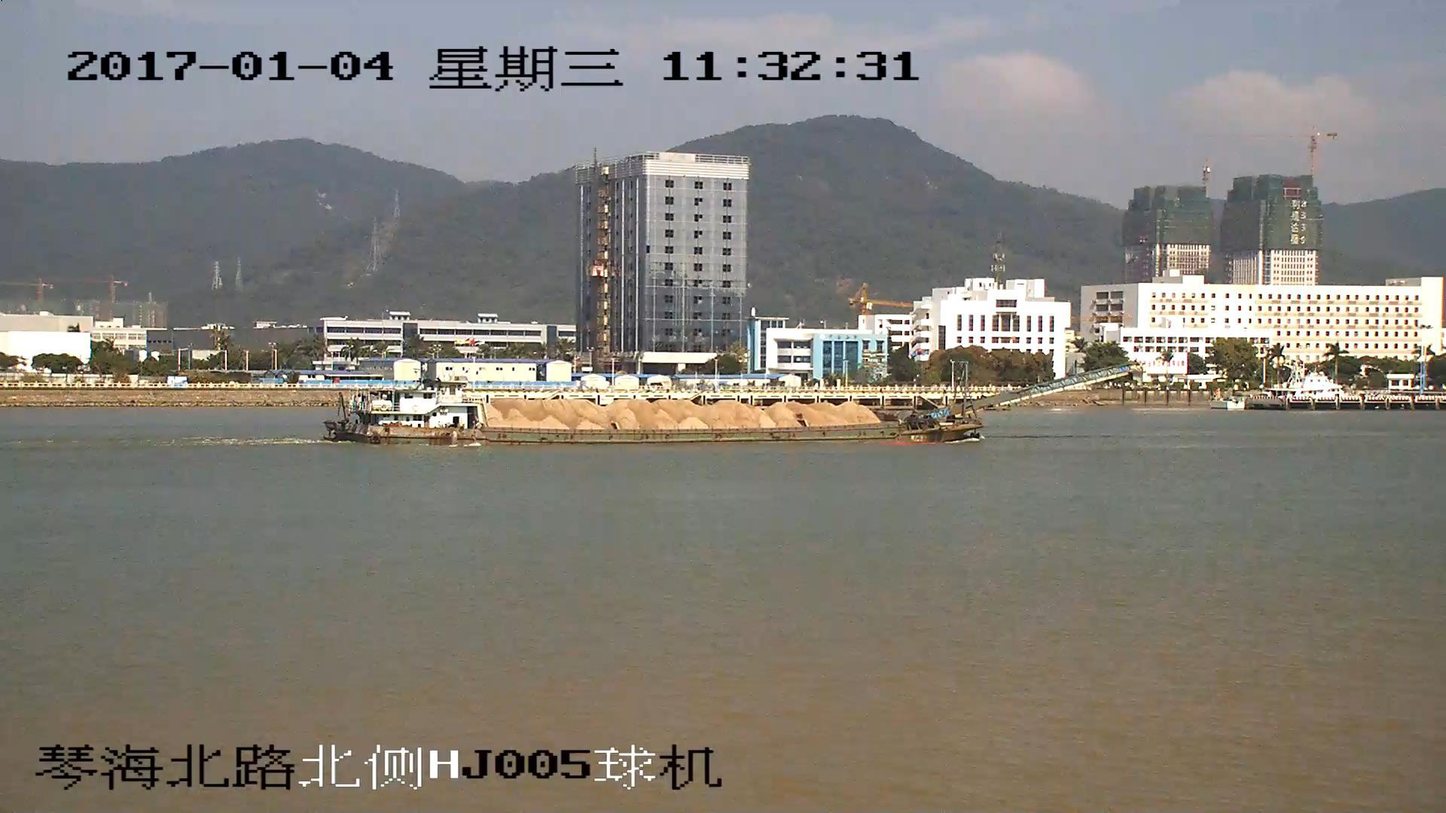ore carrier: (325, 361, 1138, 449)
